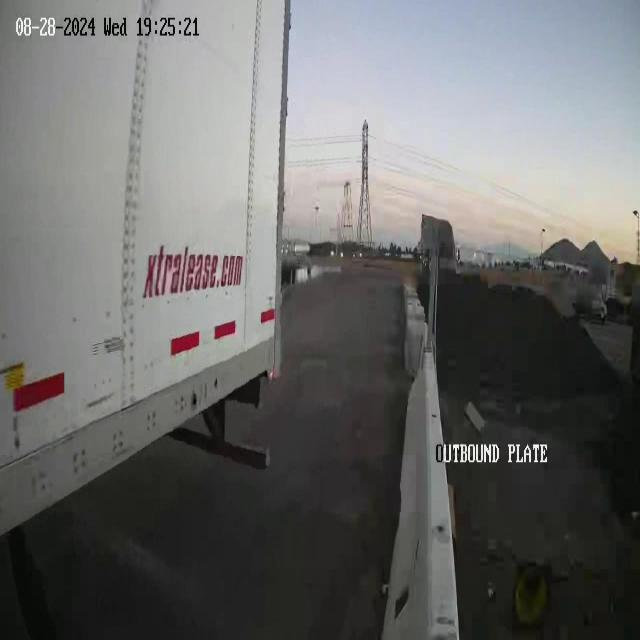CONTAINER: (1, 1, 288, 534)
